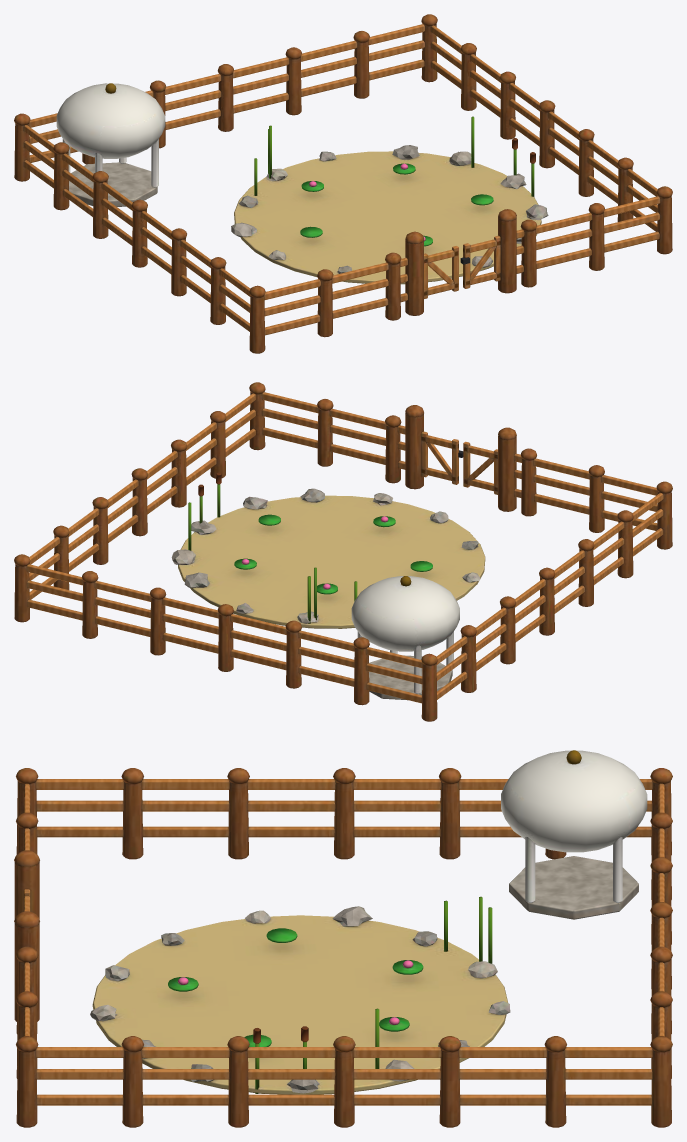
File: swan_lake.glb
3 renders of one model, top to bottom at view 1: azimuth 30°, elevation 25°; view 2: azimuth 150°, elevation 25°; view 3: azimuth 270°, elevation 25°, orthographic. The views are drawn at different scales.
Visible parts, largest first — view 1: swan_lake, gate1, gate0; view 2: swan_lake, gate1, gate0; view 3: swan_lake.
Part boxes in pixels (<box>): swan_lake: <box>14,14,672,353</box>; gate1: <box>460,235,500,288</box>; gate0: <box>424,246,458,298</box>; swan_lake: <box>14,382,672,721</box>; gate1: <box>421,431,463,484</box>; gate0: <box>463,441,497,494</box>; swan_lake: <box>14,750,672,1127</box>.
Bounding box in the file's own units: 3 × 0.715 × 3.01.
1 material, 1 textured.
